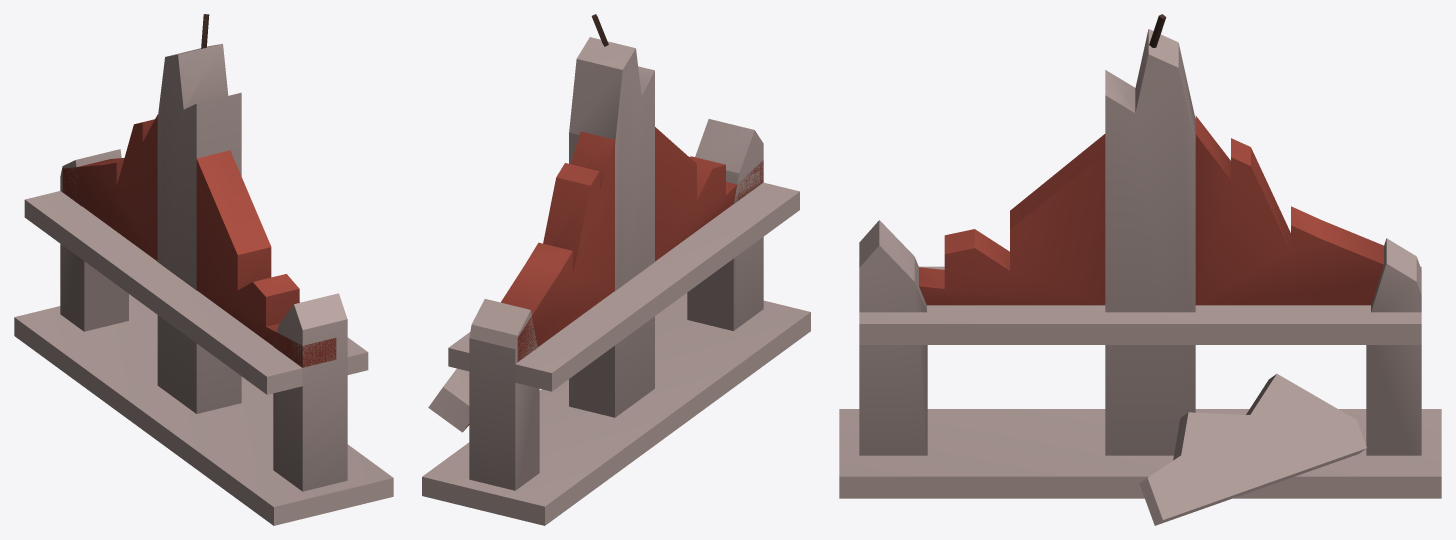
The model's file is decay.collapsed-facade.lod2.glb.
The picture shows the model from 3 angles, left to right: view 1: azimuth 30°, elevation 25°; view 2: azimuth 150°, elevation 25°; view 3: azimuth 270°, elevation 25°; orthographic projection. The views are drawn at different scales.
Parts seen in each view (by area): view 1: body; view 2: body; view 3: body.
Part boxes in pixels (x1,y1,x2,y2): body: (14,14,393,525); body: (422,14,810,525); body: (839,14,1441,525).
Size of the model in its own units: 2.65 by 5.01 by 6.
